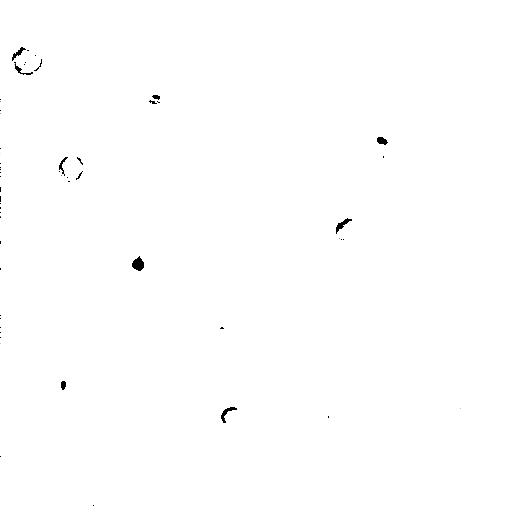micro-algae: (113, 237, 165, 287), (43, 368, 81, 405), (8, 43, 43, 74), (364, 125, 401, 153), (492, 134, 511, 180), (58, 153, 85, 183), (182, 0, 225, 18), (333, 215, 361, 241), (219, 405, 247, 426)
